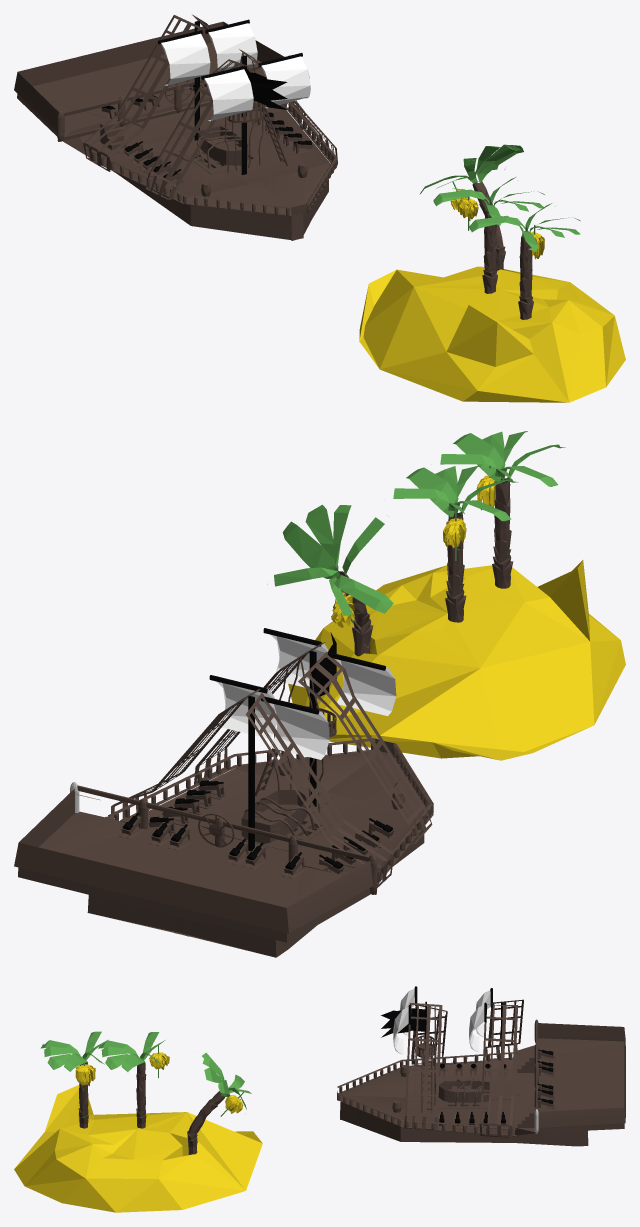
The model's file is SchiffVR_NEU.fbx.
3 views of the same model, one above another, from view 1: azimuth 30°, elevation 25°; view 2: azimuth 150°, elevation 25°; view 3: azimuth 270°, elevation 25° (orthographic). The views are drawn at different scales.
Visible parts, largest first — view 1: Landschaft_1, Schiff, segelhalter4, Segelhalter1, Röhre_4, Röhre_8, Röhre, Röhre_6, Blätter, Boot, Blätter_6, Baumstamm_6 (+6 smaller); view 2: Landschaft_1, Schiff, Blätter, Segelhalter1, segelhalter4, Blätter_4, Blätter_6, Röhre_8, Röhre_4, Boot, Baumstamm_6, Zylinder_3_10 (+8 smaller); view 3: Landschaft_1, Schiff, Segelhalter3, Segelhalter2, Blätter_6, Blätter_4, Boot, Blätter, Baumstamm, segelhalter4, Flagge, Baumstamm_4 (+6 smaller).
Part boxes in pixels (bbox=[...]): Landschaft_1: bbox=[359, 266, 625, 402]; Schiff: bbox=[14, 21, 330, 240]; segelhalter4: bbox=[82, 15, 201, 171]; Segelhalter1: bbox=[145, 59, 246, 199]; Röhre_4: bbox=[161, 33, 210, 85]; Röhre_8: bbox=[204, 69, 253, 121]; Röhre: bbox=[208, 23, 257, 72]; Röhre_6: bbox=[261, 56, 310, 108]; Blätter: bbox=[419, 144, 523, 194]; Boot: bbox=[198, 126, 248, 165]; Blätter_6: bbox=[469, 203, 580, 251]; Baumstamm_6: bbox=[518, 235, 533, 319]; Landschaft_1: bbox=[288, 560, 625, 760]; Schiff: bbox=[14, 738, 424, 957]; Blätter: bbox=[267, 504, 393, 615]; Segelhalter1: bbox=[298, 651, 432, 844]; segelhalter4: bbox=[245, 692, 393, 887]; Blätter_4: bbox=[393, 465, 518, 521]; Blätter_6: bbox=[440, 431, 565, 486]; Röhre_8: bbox=[335, 659, 396, 715]; Röhre_4: bbox=[269, 703, 329, 759]; Boot: bbox=[241, 790, 306, 843]; Baumstamm_6: bbox=[492, 478, 513, 588]; Zylinder_3_10: bbox=[77, 785, 369, 861]; Landschaft_1: bbox=[14, 1085, 262, 1212]; Schiff: bbox=[337, 1023, 625, 1146]; Segelhalter3: bbox=[479, 1004, 517, 1137]; Segelhalter2: bbox=[404, 1003, 442, 1130]; Blätter_6: bbox=[40, 1031, 108, 1071]; Blätter_4: bbox=[98, 1032, 165, 1071]; Boot: bbox=[438, 1080, 489, 1102]; Blätter: bbox=[202, 1052, 251, 1109]; Baumstamm: bbox=[187, 1091, 224, 1154]; segelhalter4: bbox=[485, 999, 523, 1060]; Flagge: bbox=[381, 1008, 425, 1037]; Baumstamm_4: bbox=[136, 1061, 146, 1128].
Bounding box in the file's own units: 1116 × 633 × 2487.
Materials: 6 (3 with a texture image).
